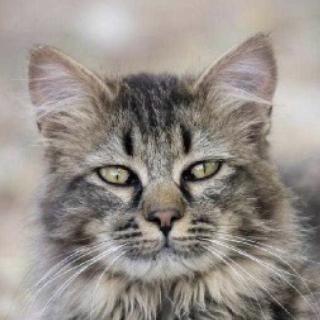cat: (29, 34, 281, 280)
nose: (141, 195, 186, 246)
